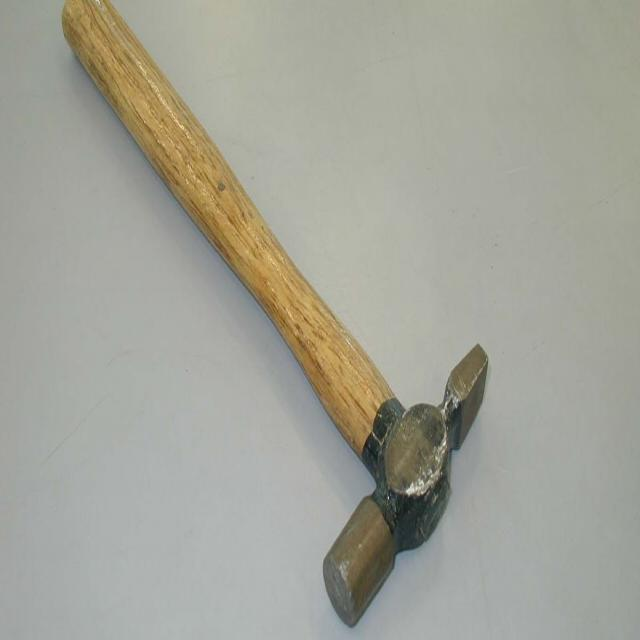hammer: (60, 3, 490, 638)
